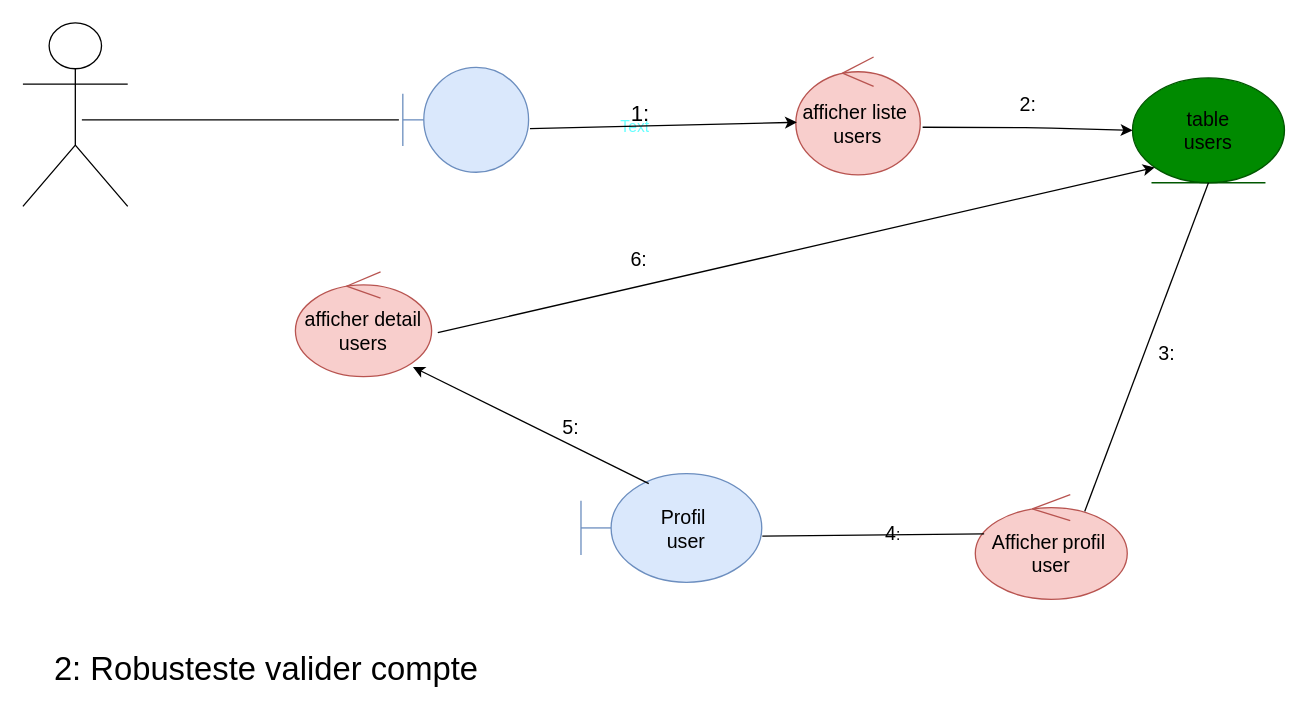
This 1307x710 diagram has some shape labels left out. The centre of each missing label's shape, as x and y in pixels:
"ADMIN" goes at pixel 75 114.
"Login" goes at pixel 465 119.
